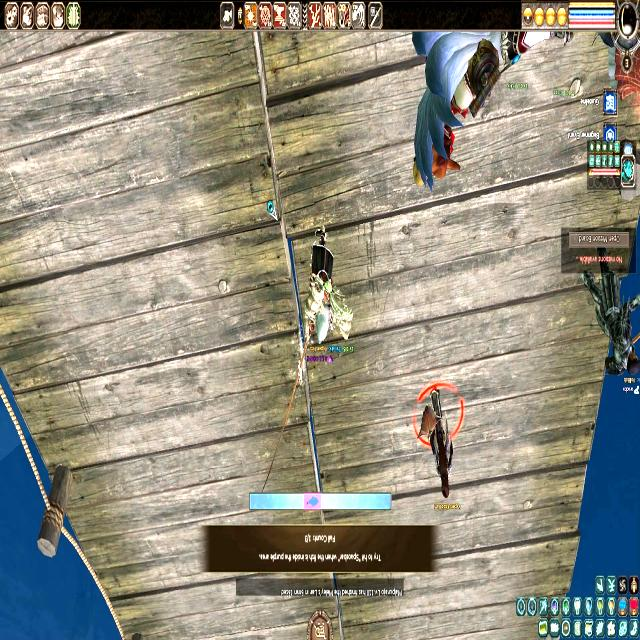fishes: (305, 495, 320, 509)
